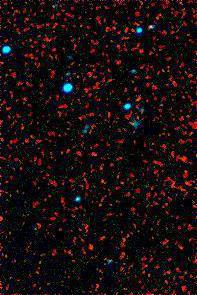star: (122, 84, 152, 114)
